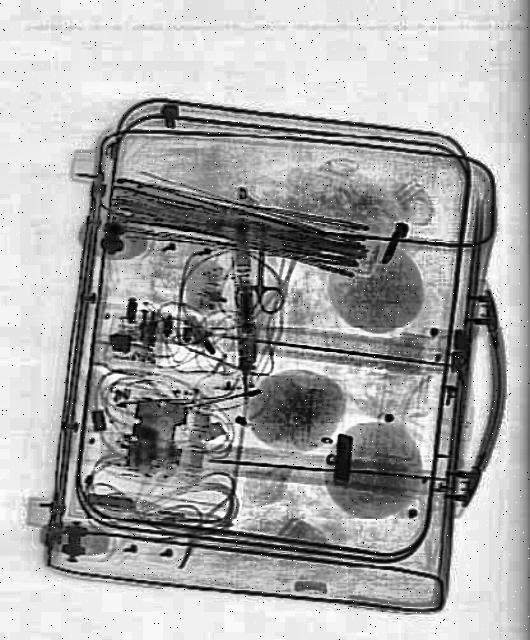Scissors: (236, 218, 288, 312)
